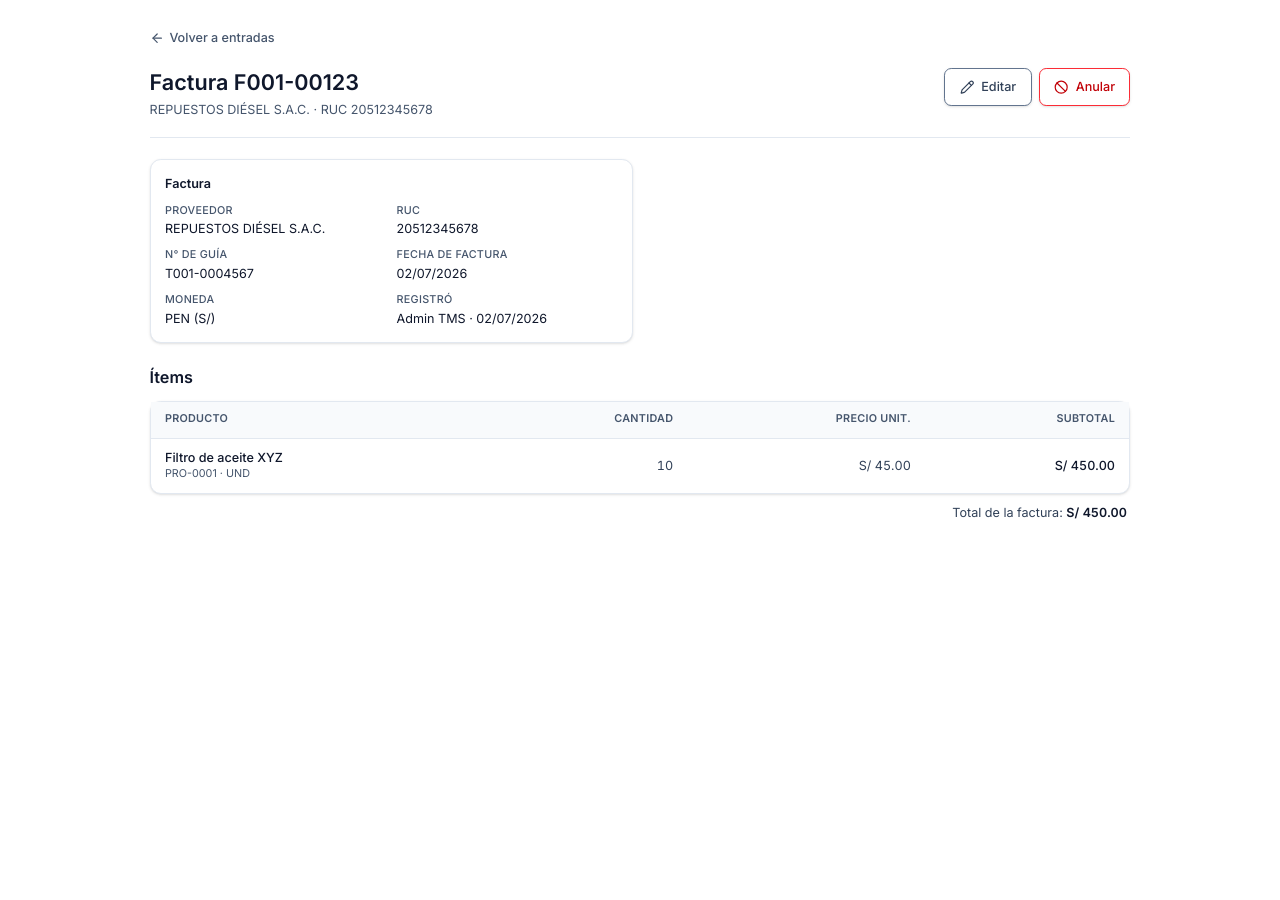
EntryDetailPage › abrir Anular muestra el diálogo con el campo de motivo
What coordinates should you click on to do the following:
click the button "Anular"
I would click on:
 (1085, 87)
Its box is [1039, 68, 1130, 106].
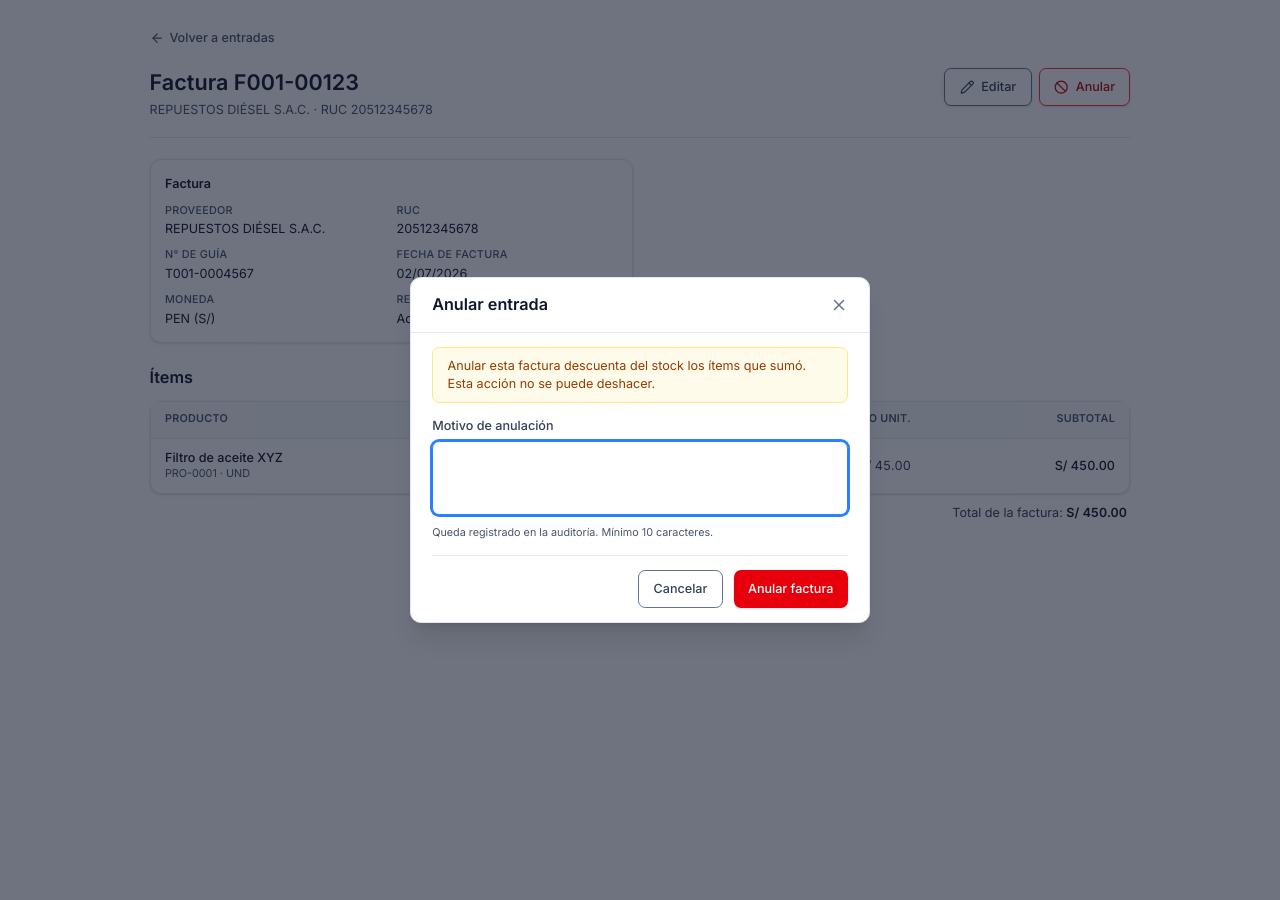
Check: the dialog is shown, box [410, 277, 870, 623]
Check: the text box labelled "Motivo de anulación" is shown, box [432, 441, 848, 515]
